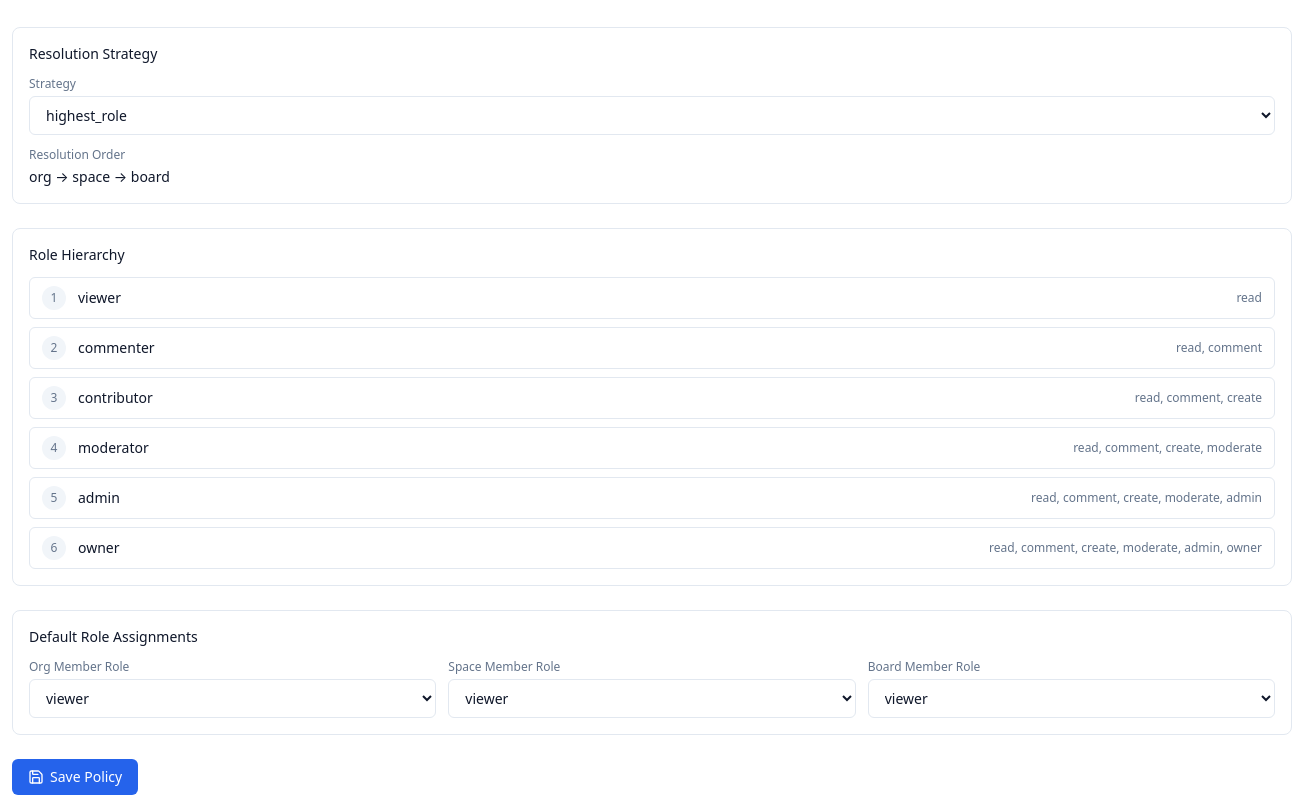
Test: RBACPolicyEditor › shows error message on save failure
(page scrolled)
Click the button with test id "policy-save-btn".
click(75, 777)  # box [12,759,138,794]
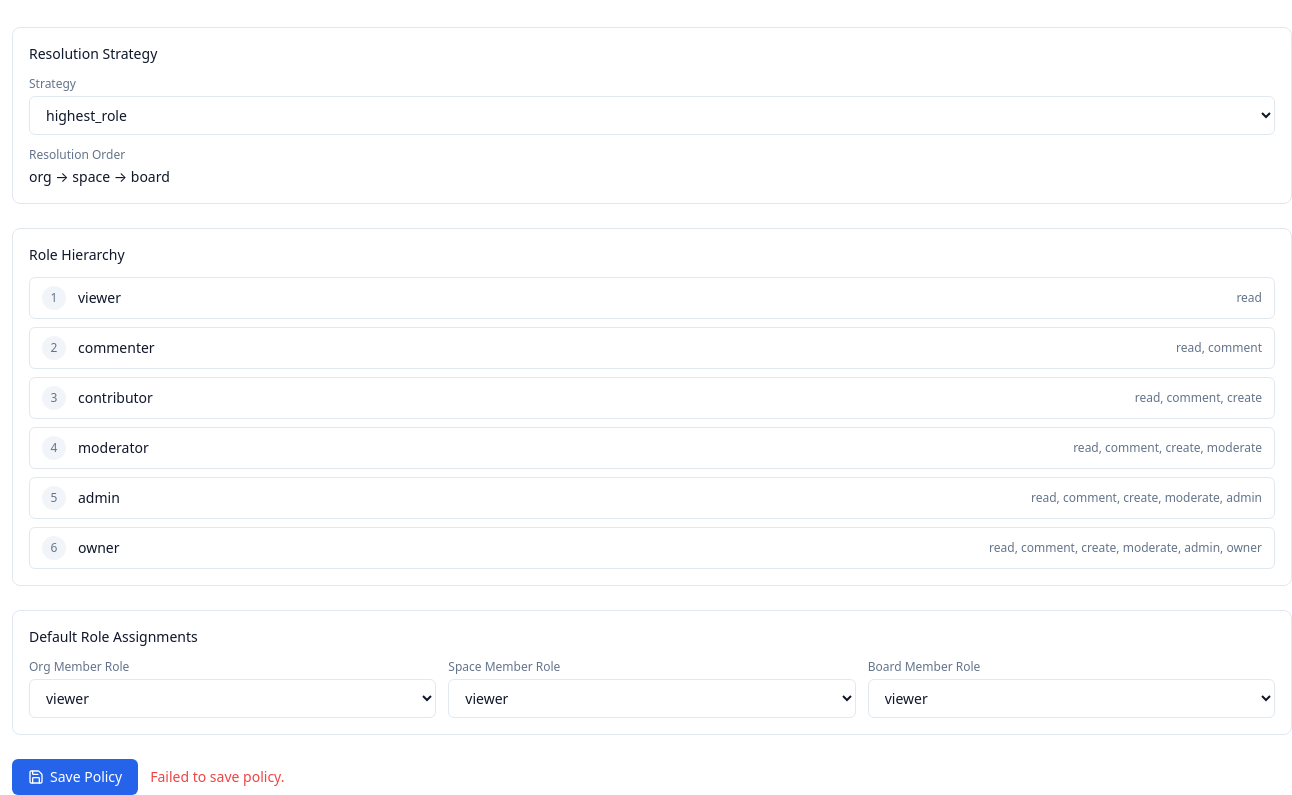
Now the text "Failed to save policy." is shown, box [150,767,284,787]
